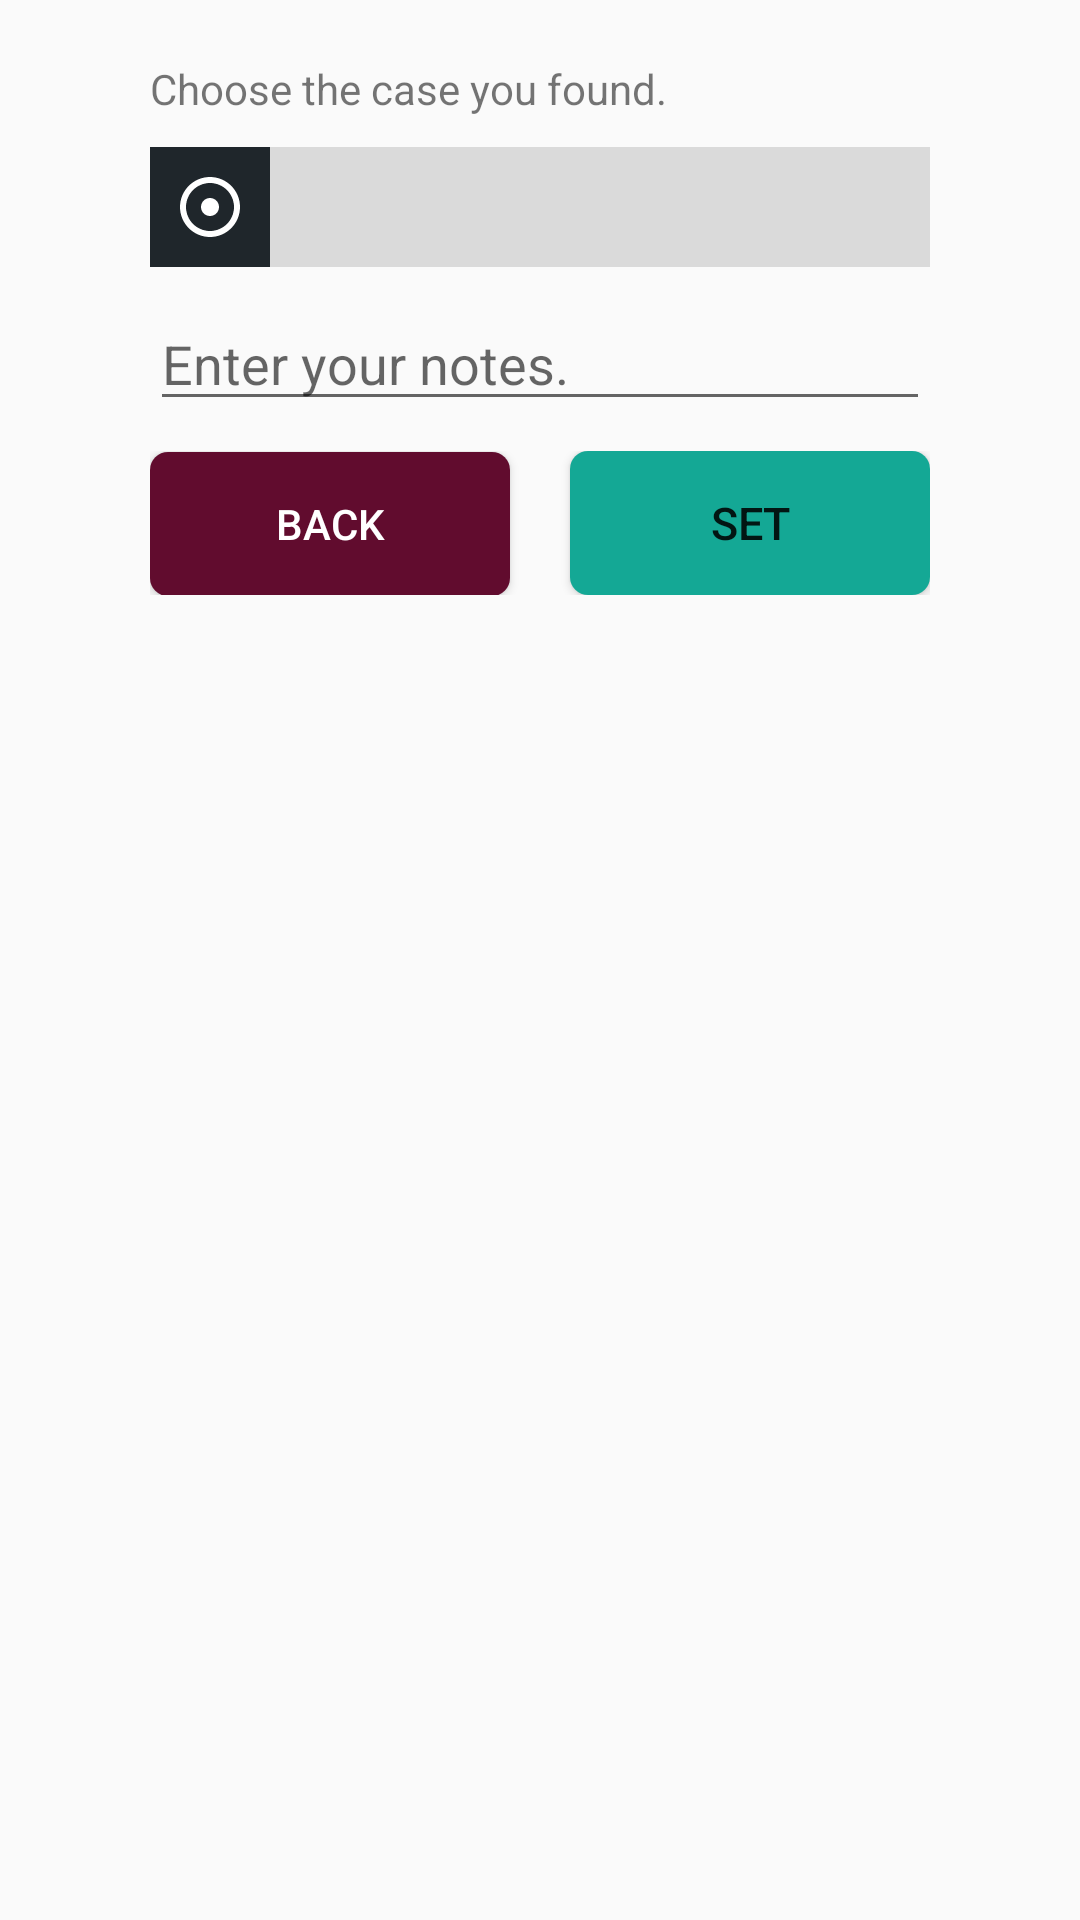

Screen size 1080 × 1920. Icon name, then its box in pixels as rect(x1, y1, x2, y2):
adjust: rect(150, 147, 270, 267)
